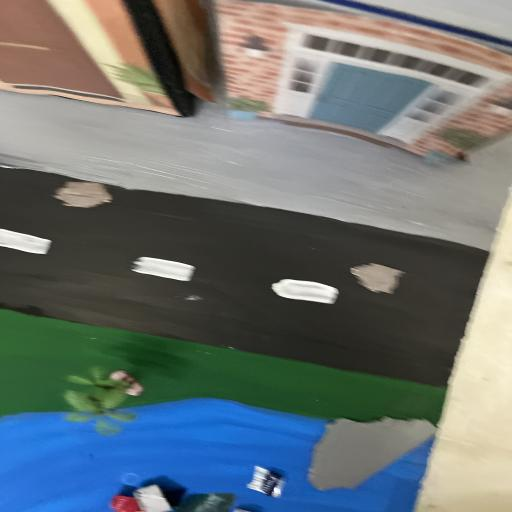encroachment: (306, 416, 442, 492)
porthole: (347, 262, 408, 295), (56, 180, 112, 209)
trash: (107, 466, 288, 512)
